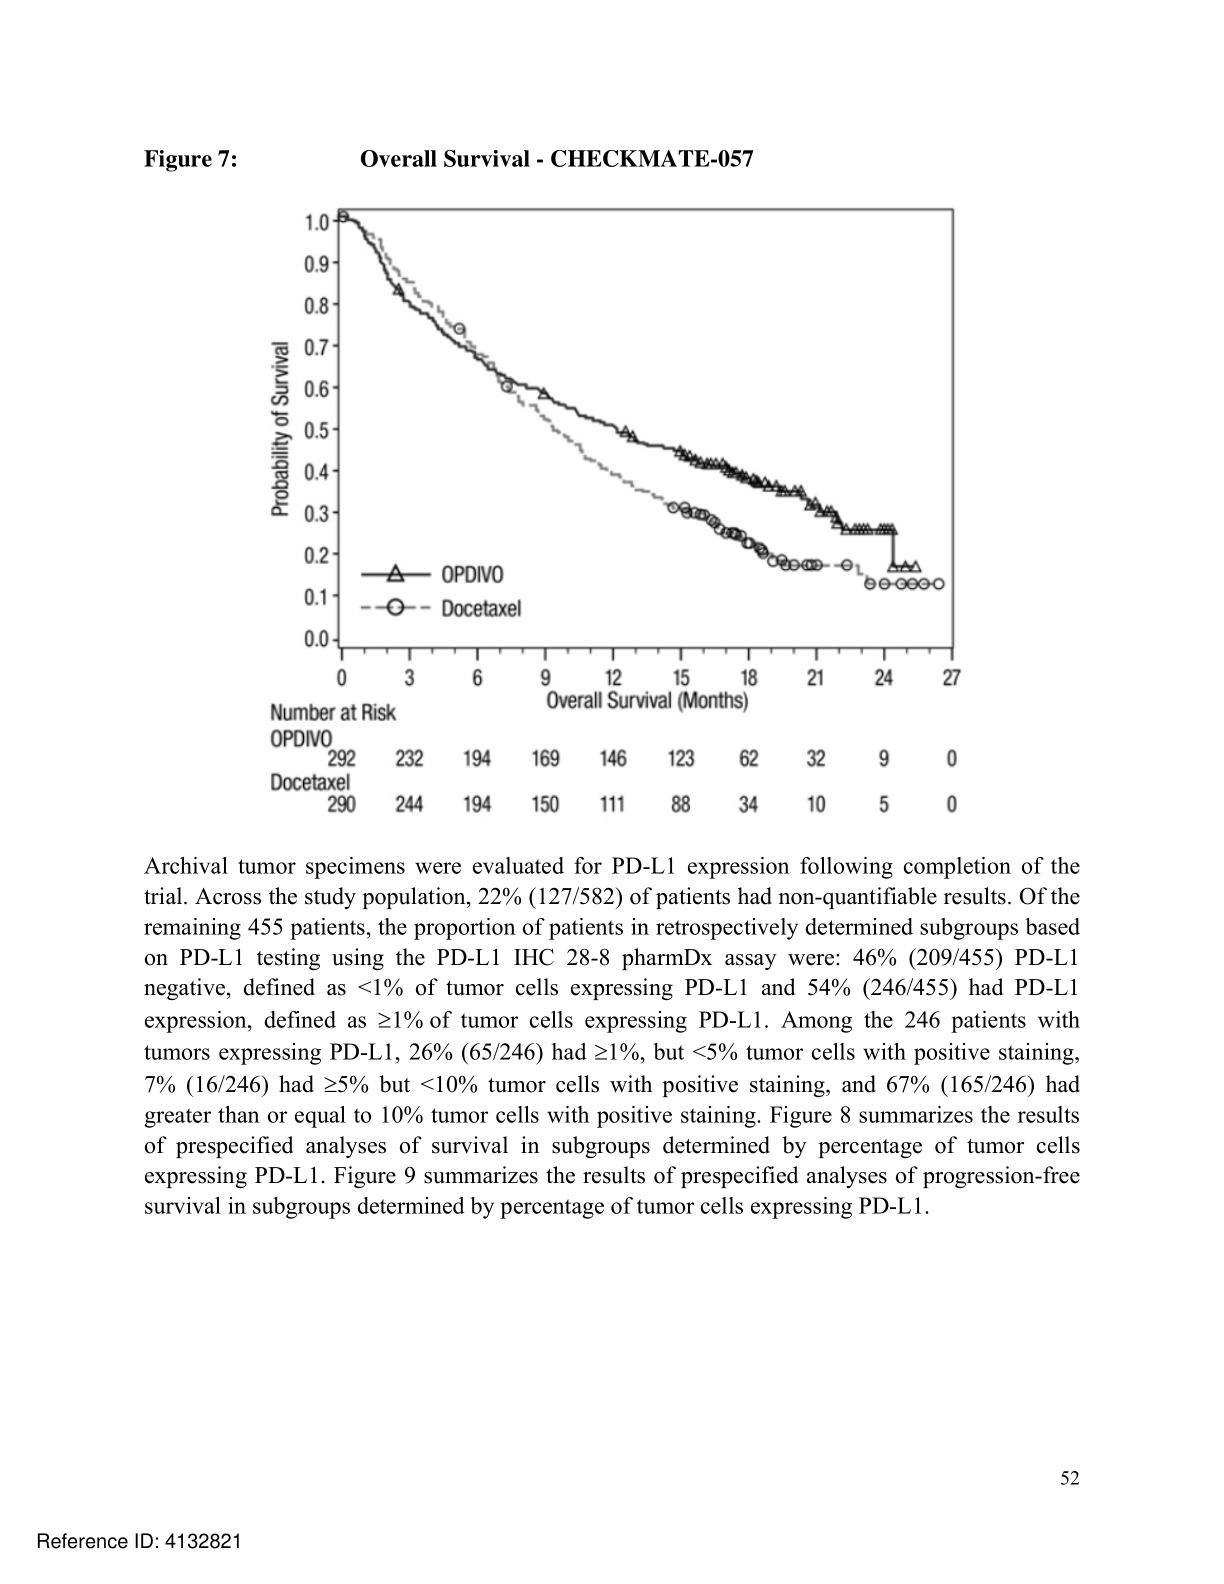nolines: (267, 726, 962, 818)
